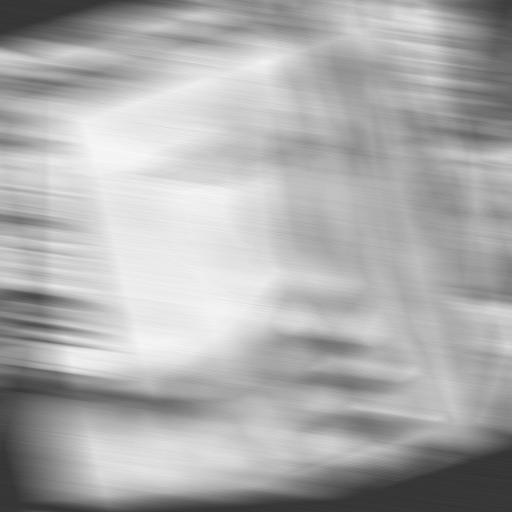envelop: (108, 105, 467, 512)
top_left: (21, 106, 54, 123)
top_right: (378, 0, 409, 5)
